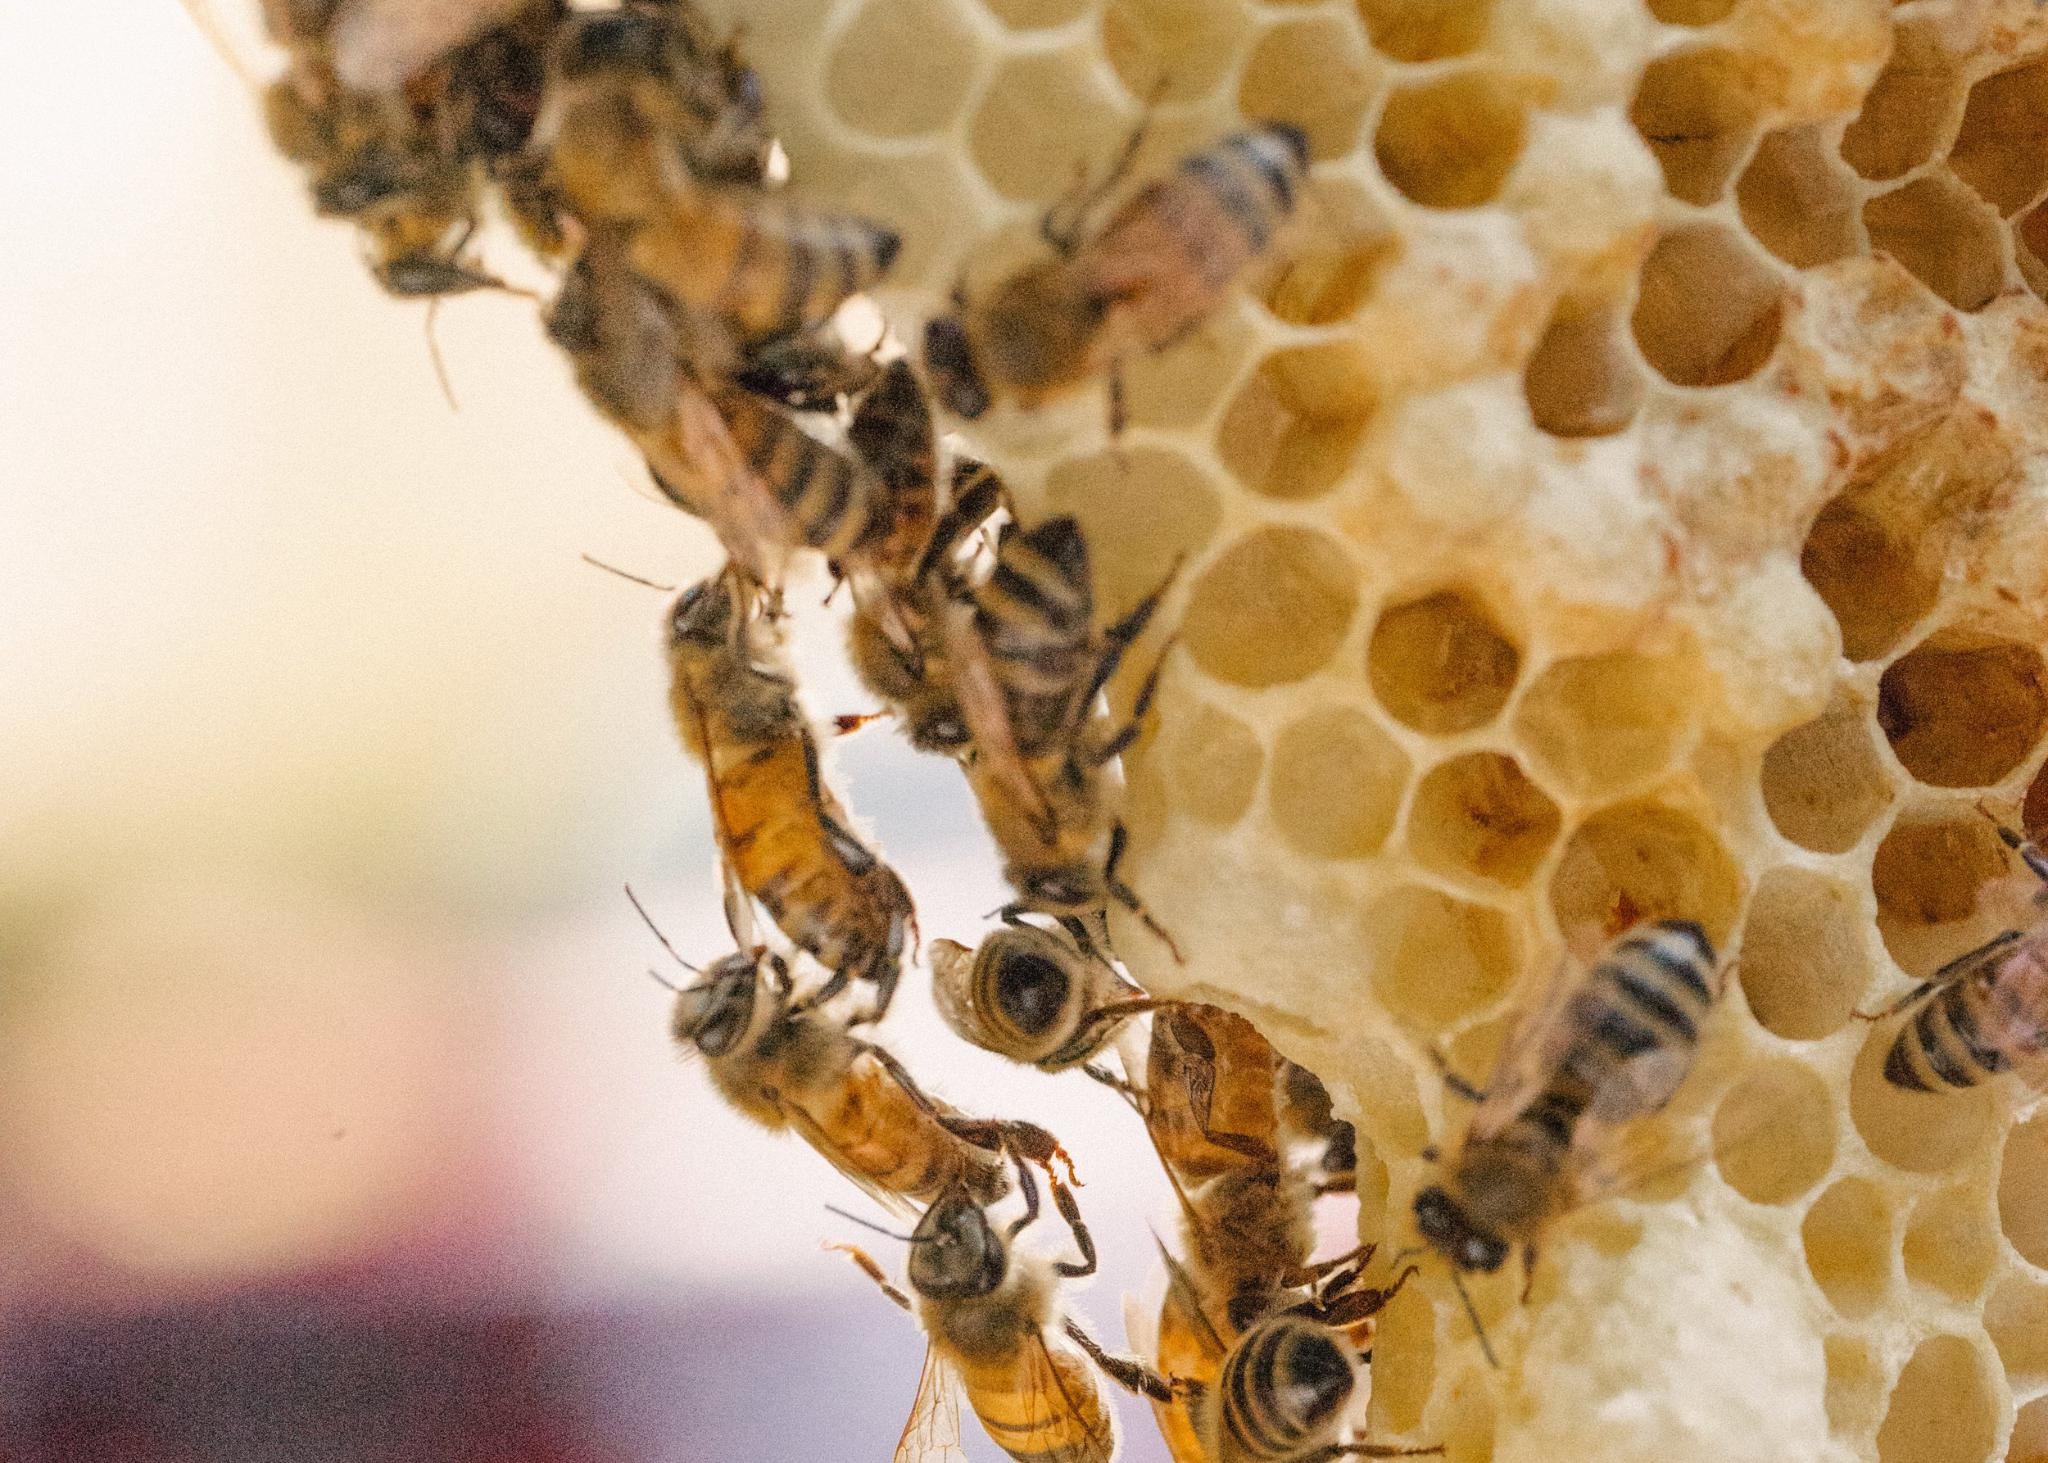bee: (921, 123, 1306, 412), (552, 22, 897, 332), (1426, 915, 1717, 1263), (671, 579, 907, 975), (567, 279, 886, 545), (666, 953, 1011, 1197), (901, 1181, 1113, 1461), (967, 515, 1111, 910), (845, 364, 980, 747), (364, 28, 538, 294), (1154, 1176, 1296, 1461), (1147, 980, 1296, 1235), (263, 0, 427, 212), (1879, 929, 2046, 1086), (978, 933, 1138, 1072), (1230, 1317, 1361, 1461)
